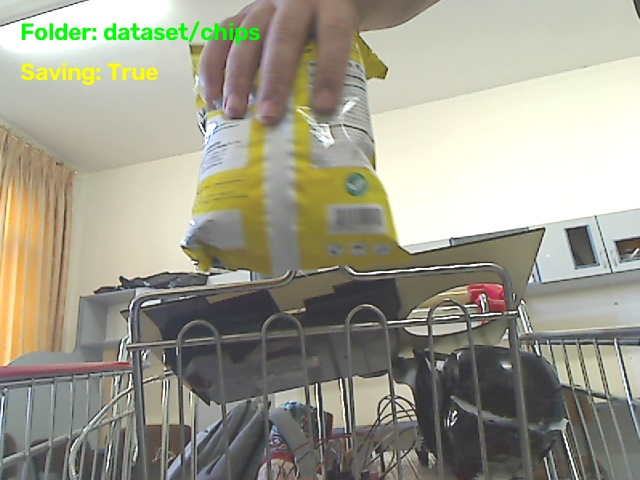chips: (182, 36, 407, 274)
